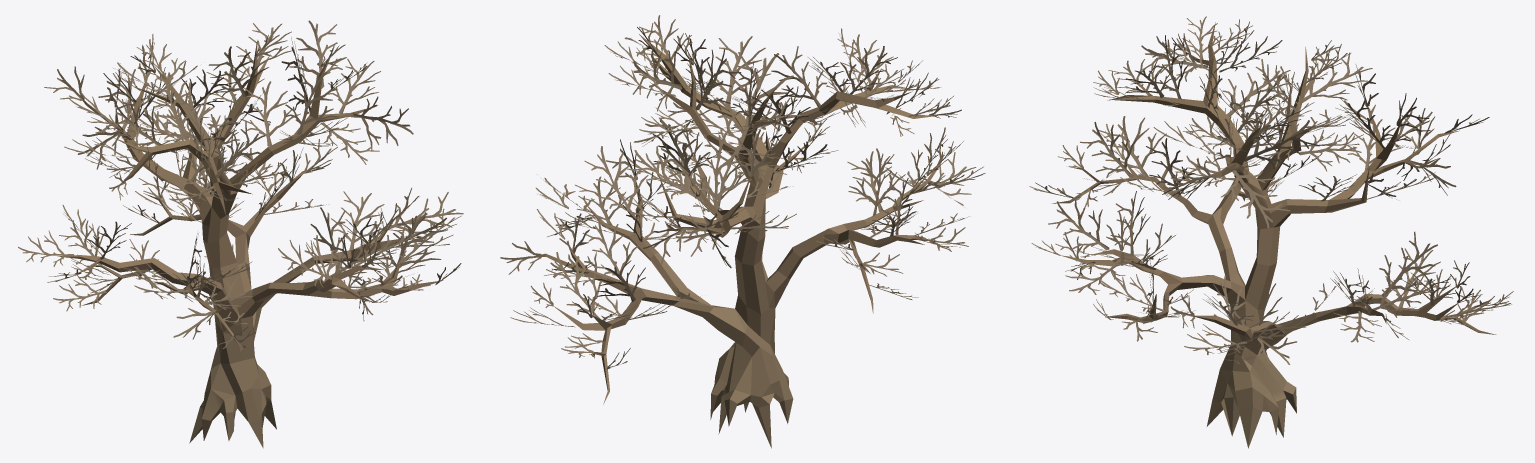
Rendered from fm_tree_winter_bare_a.glb.
3 views of the same model, side by side, from view 1: azimuth 30°, elevation 25°; view 2: azimuth 150°, elevation 25°; view 3: azimuth 270°, elevation 25° (orthographic). The views are drawn at different scales.
Visible parts, largest first — view 1: SM_Env_Tree_Meadow_01_Branches_LOD2, SM_Env_Tree_Meadow_01_LOD2; view 2: SM_Env_Tree_Meadow_01_Branches_LOD2, SM_Env_Tree_Meadow_01_LOD2; view 3: SM_Env_Tree_Meadow_01_Branches_LOD2, SM_Env_Tree_Meadow_01_LOD2.
Boxes of the visible parts, left/top/right/bottom form: SM_Env_Tree_Meadow_01_Branches_LOD2: left=18, top=20, right=463, bottom=351; SM_Env_Tree_Meadow_01_LOD2: left=57, top=40, right=443, bottom=448; SM_Env_Tree_Meadow_01_Branches_LOD2: left=500, top=15, right=985, bottom=370; SM_Env_Tree_Meadow_01_LOD2: left=537, top=34, right=944, bottom=448; SM_Env_Tree_Meadow_01_Branches_LOD2: left=1029, top=16, right=1513, bottom=364; SM_Env_Tree_Meadow_01_LOD2: left=1052, top=22, right=1496, bottom=448.
Bounding box in the file's own units: 10.63 × 9.1 × 10.84.
Materials: 2 (2 with a texture image).
